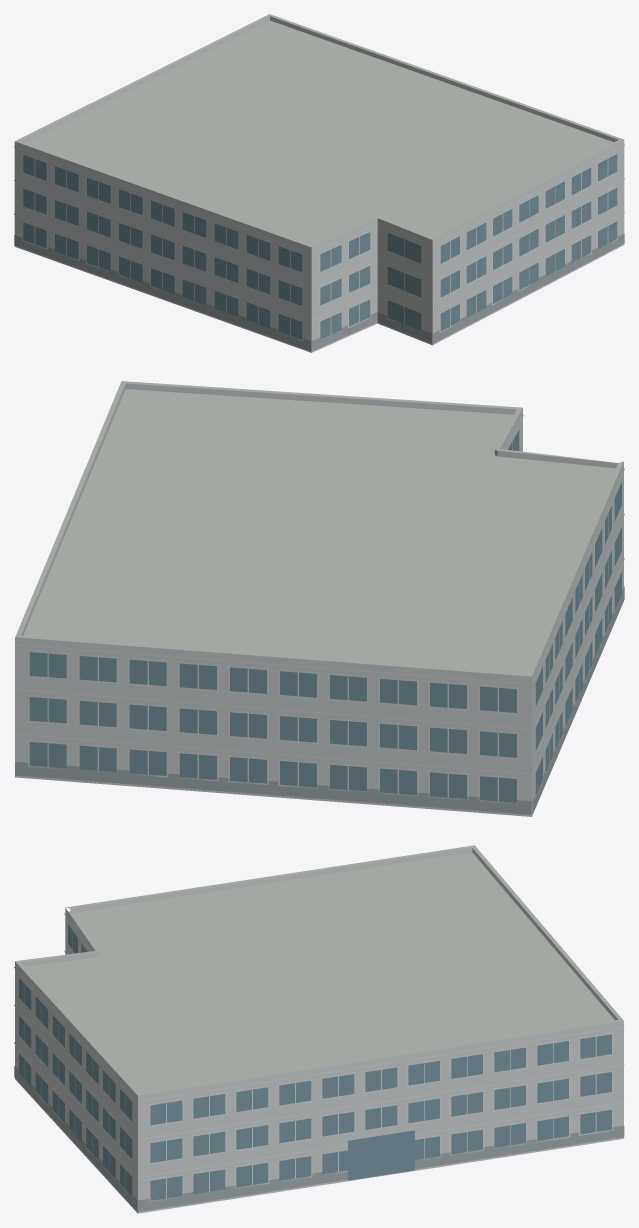
File: public-261396d3-ecf7-4b7c-b744-cd0692beea82.glb
The picture shows the model from 3 angles, top to bottom: view 1: azimuth 30°, elevation 25°; view 2: azimuth 150°, elevation 25°; view 3: azimuth 270°, elevation 25°; orthographic projection. The views are drawn at different scales.
Parts seen in each view (by area): view 1: public-261396d3-ecf7-4b7c-b744-cd0692beea82; view 2: public-261396d3-ecf7-4b7c-b744-cd0692beea82; view 3: public-261396d3-ecf7-4b7c-b744-cd0692beea82.
Boxes of the visible parts, bbox=[...] form: public-261396d3-ecf7-4b7c-b744-cd0692beea82: bbox=[14, 14, 624, 352]; public-261396d3-ecf7-4b7c-b744-cd0692beea82: bbox=[15, 381, 624, 816]; public-261396d3-ecf7-4b7c-b744-cd0692beea82: bbox=[14, 845, 624, 1213].
Bounding box in the file's own units: 41.84 × 9.15 × 42.98.
